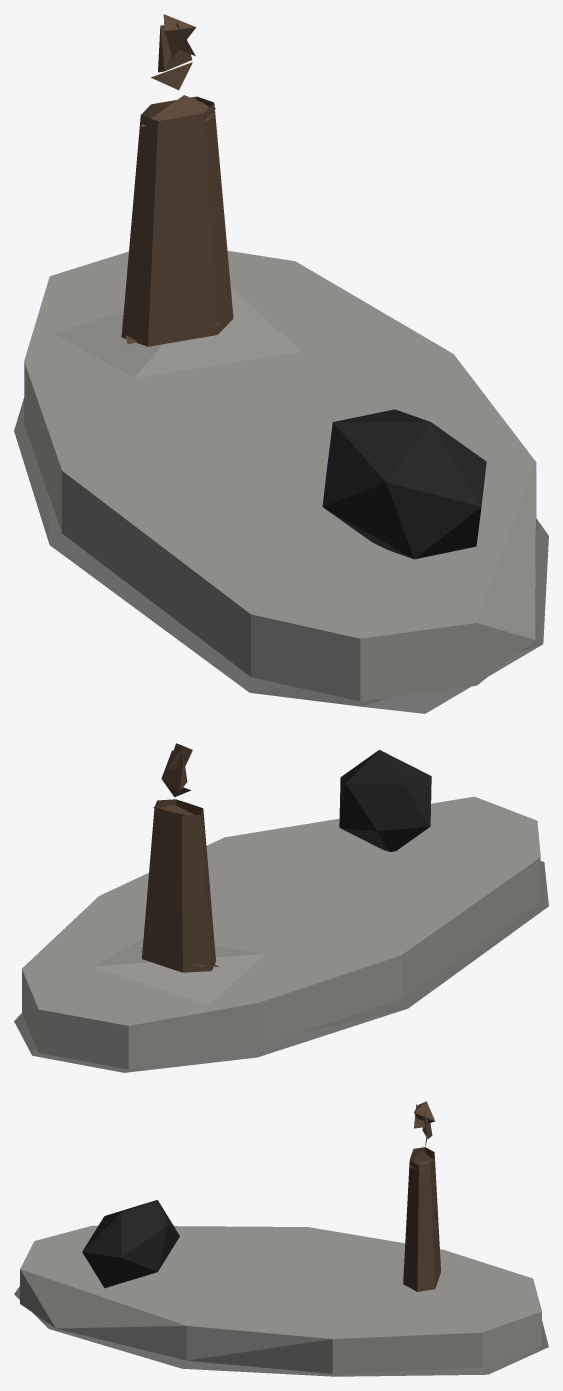
File: spinoza-standbeeld.lod2.glb
3 views of the same model, one above another, from view 1: azimuth 30°, elevation 25°; view 2: azimuth 150°, elevation 25°; view 3: azimuth 270°, elevation 25° (orthographic). The views are drawn at different scales.
Parts seen in each view (by area): view 1: lod2; view 2: lod2; view 3: lod2.
Part boxes in pixels (box(x1,y1,x2,y2)): lod2: box(14, 14, 548, 713); lod2: box(14, 743, 548, 1072); lod2: box(14, 1101, 548, 1376).
Size of the model in its own units: 3.12 by 2.74 by 5.97.
